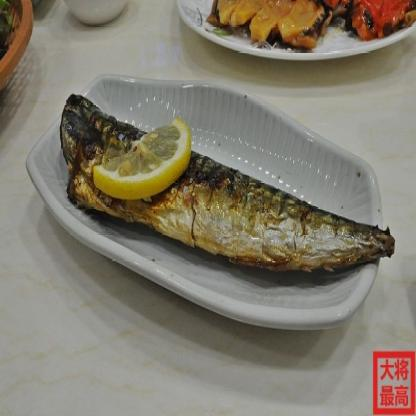Peixe: (53, 92, 406, 341)
